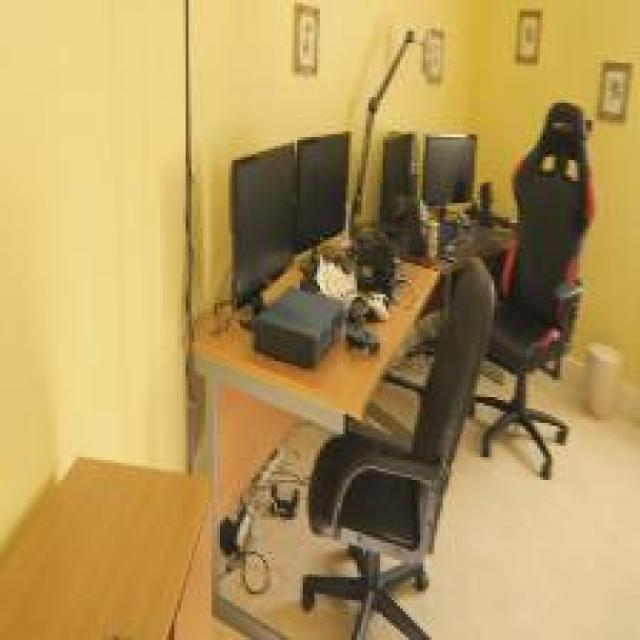other: (68, 9, 286, 126), (198, 340, 354, 457)
